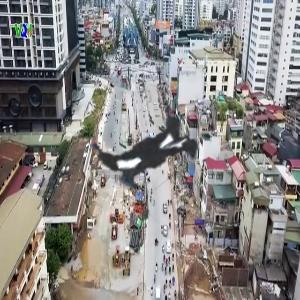drone: (8, 6, 299, 297)
